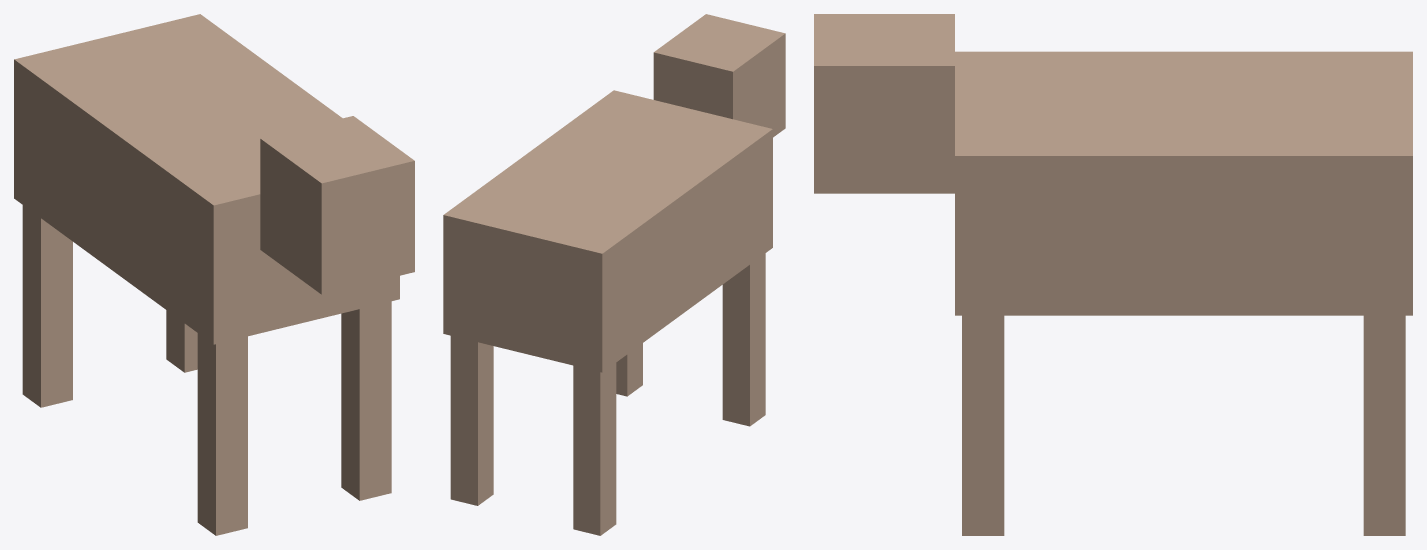
Rendered from Horse.glb.
The picture shows the model from 3 angles, left to right: view 1: azimuth 30°, elevation 25°; view 2: azimuth 150°, elevation 25°; view 3: azimuth 270°, elevation 25°; orthographic projection. The views are drawn at different scales.
Parts seen in each view (by area): view 1: Horse; view 2: Horse; view 3: Horse.
Part boxes in pixels (<box>): Horse: <box>14,14,414,535</box>; Horse: <box>443,14,785,535</box>; Horse: <box>814,14,1412,535</box>.
Size of the model in its own units: 0.7 by 1.4 by 1.7.
